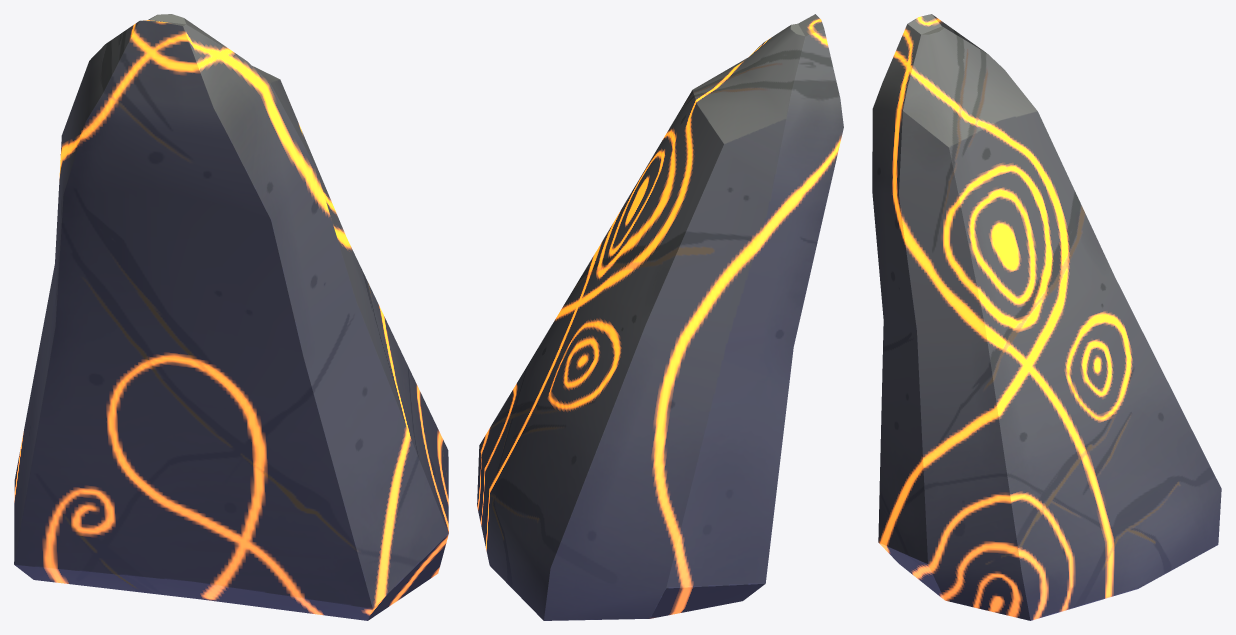
File: rock_y2.fbx
The picture shows the model from 3 angles, left to right: view 1: azimuth 30°, elevation 25°; view 2: azimuth 150°, elevation 25°; view 3: azimuth 270°, elevation 25°; orthographic projection. The views are drawn at different scales.
Visible parts, largest first — view 1: Cube.004.frozen; view 2: Cube.004.frozen; view 3: Cube.004.frozen.
Boxes of the visible parts, x1,y1,x2,y2 form: Cube.004.frozen: (14,14,448,620); Cube.004.frozen: (477,14,843,620); Cube.004.frozen: (872,14,1221,620).
Bounding box in the file's own units: 139 × 208 × 138.
Materials: 1 (1 with a texture image).
